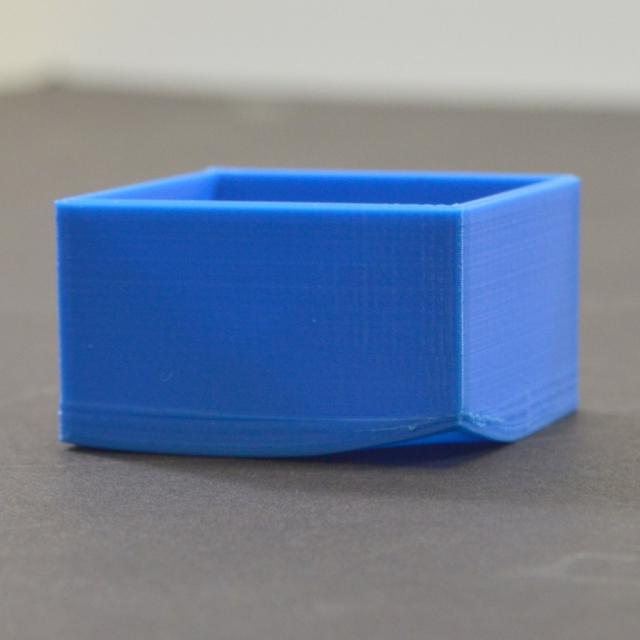Warping: (358, 386, 514, 479)
